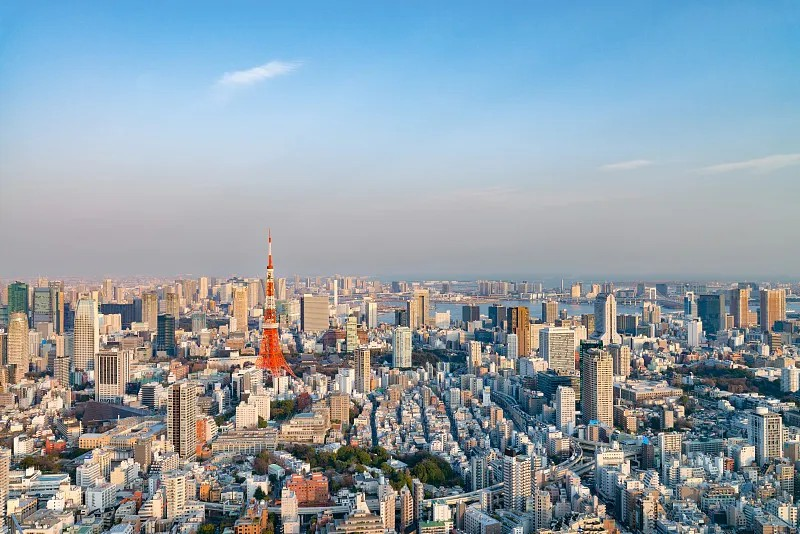Tokyo: (253, 226, 299, 381)
